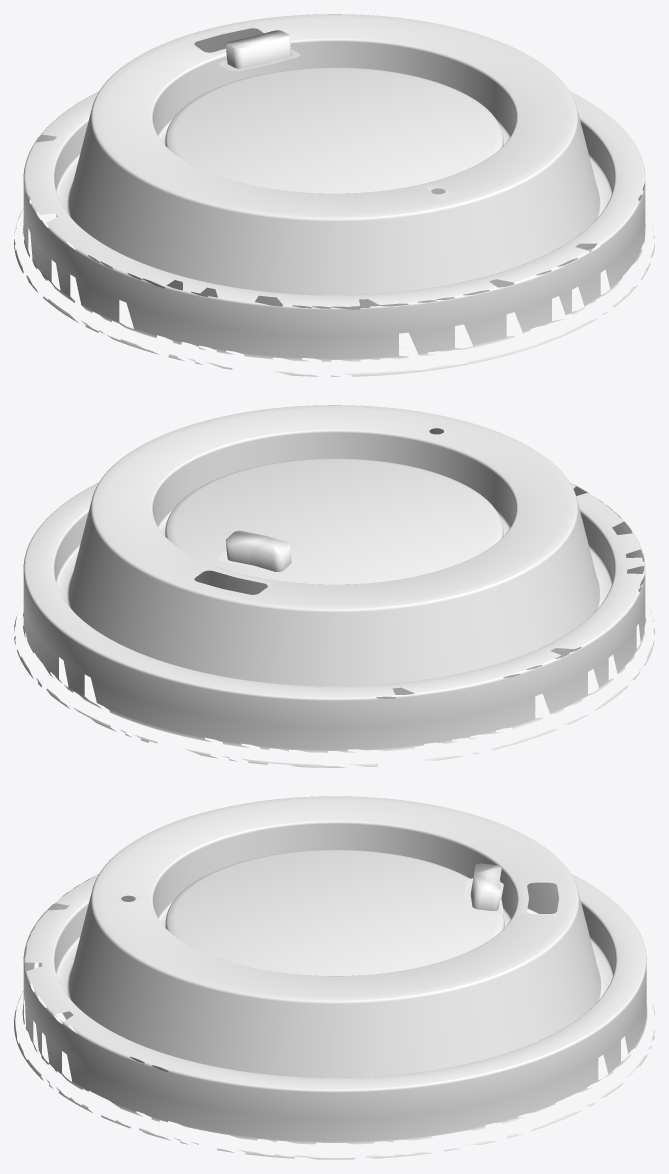
File: lid.glb
The picture shows the model from 3 angles, top to bottom: view 1: azimuth 30°, elevation 25°; view 2: azimuth 150°, elevation 25°; view 3: azimuth 270°, elevation 25°; orthographic projection.
Visible parts, largest first — view 1: Starbuck_Cup.001; view 2: Starbuck_Cup.001; view 3: Starbuck_Cup.001.
Part boxes in pixels (x1,y1,x2,y2): Starbuck_Cup.001: (14, 14, 654, 376); Starbuck_Cup.001: (14, 405, 654, 767); Starbuck_Cup.001: (14, 796, 654, 1159).
Size of the model in its own units: 0.0923 by 0.0234 by 0.0921.
Materials: 1 (1 with a texture image).
